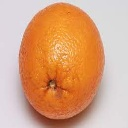orange: (20, 5, 104, 120)
